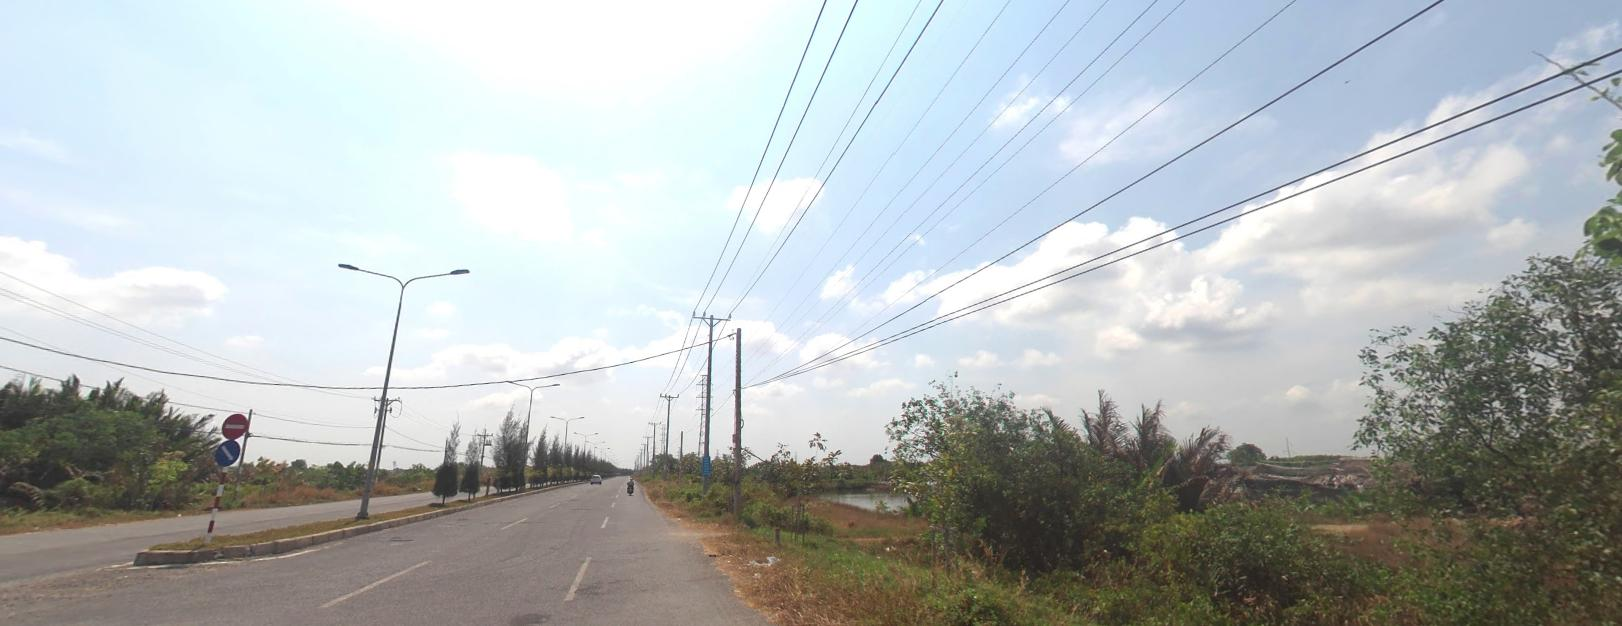Cam nguoc chieu: (222, 412, 248, 438)
Hieu lenh: (215, 439, 239, 465)
